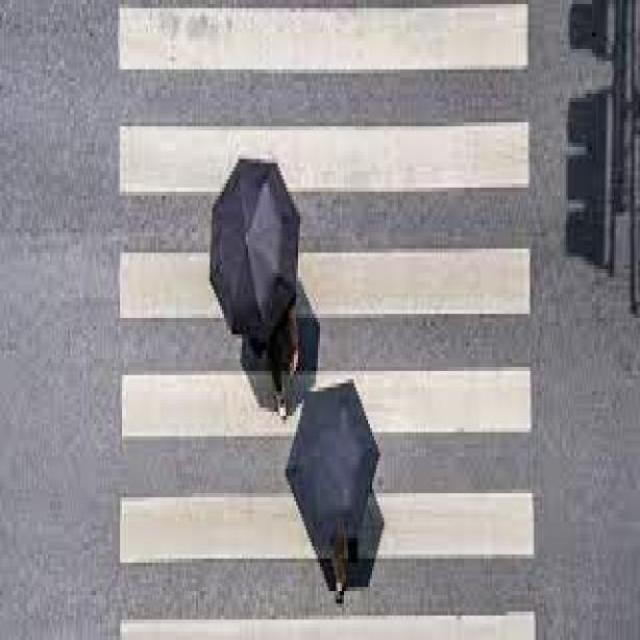pedestrian lane: (119, 3, 535, 638)
